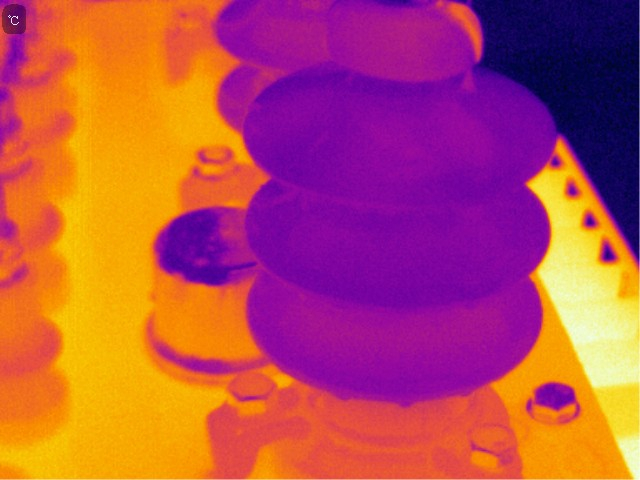Oil: (423, 1, 488, 67), (333, 386, 355, 403), (396, 396, 418, 411)
